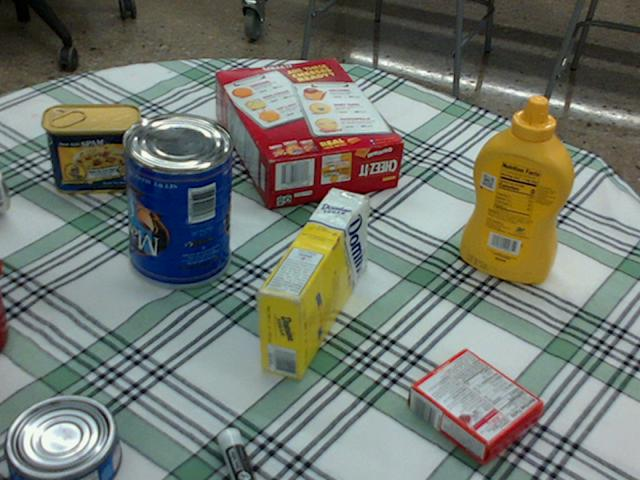cracker_box: (213, 59, 402, 204)
gelatin_box: (407, 349, 540, 465)
large_marker: (217, 429, 254, 479)
master_chef_can: (119, 113, 231, 289)
mug: (0, 293, 6, 344)
mustard_bottle: (459, 95, 572, 282)
potted_meat_can: (42, 104, 142, 193)
sugar_box: (256, 188, 367, 379)
tomato_soup_can: (0, 175, 7, 212)
tuna_fish_can: (1, 395, 117, 479)
